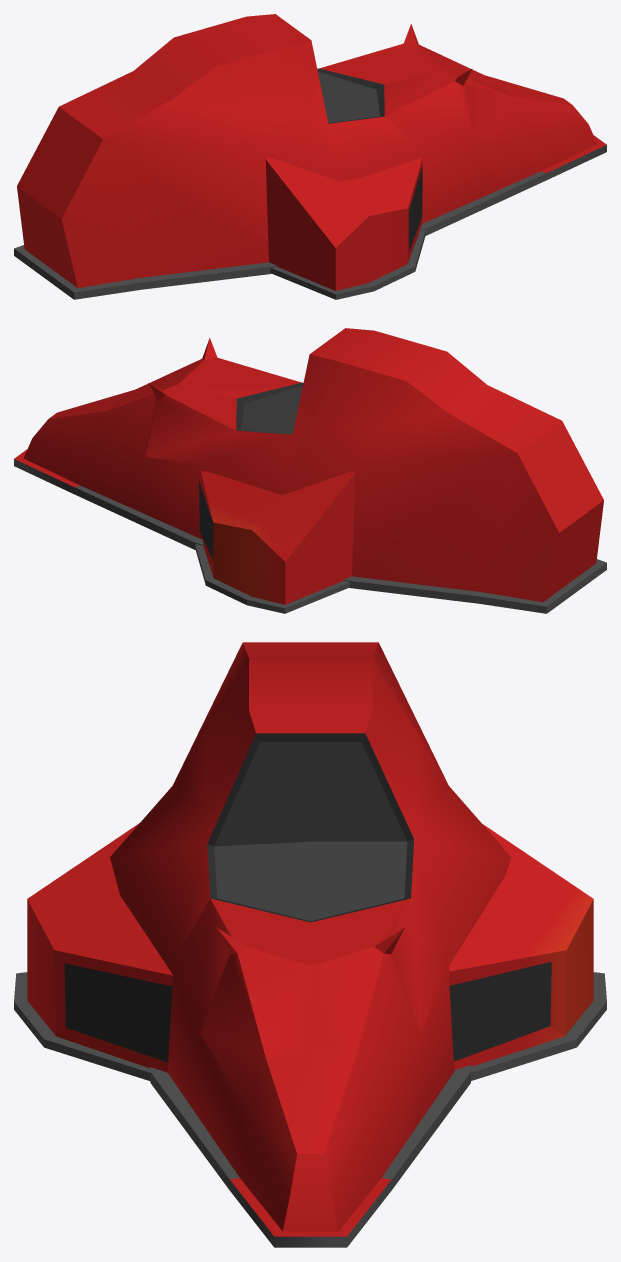
File: Flame_Body.FBX
3 views of the same model, one above another, from view 1: azimuth 30°, elevation 25°; view 2: azimuth 150°, elevation 25°; view 3: azimuth 270°, elevation 25° (orthographic). The views are drawn at different scales.
Parts seen in each view (by area): view 1: Flame_Body; view 2: Flame_Body; view 3: Flame_Body.
Boxes of the visible parts, bbox=[...] form: Flame_Body: bbox=[14, 14, 606, 299]; Flame_Body: bbox=[14, 328, 606, 613]; Flame_Body: bbox=[14, 642, 606, 1247].
Bounding box in the file's own units: 220 × 72.69 × 133.
Materials: 1 (1 with a texture image).
